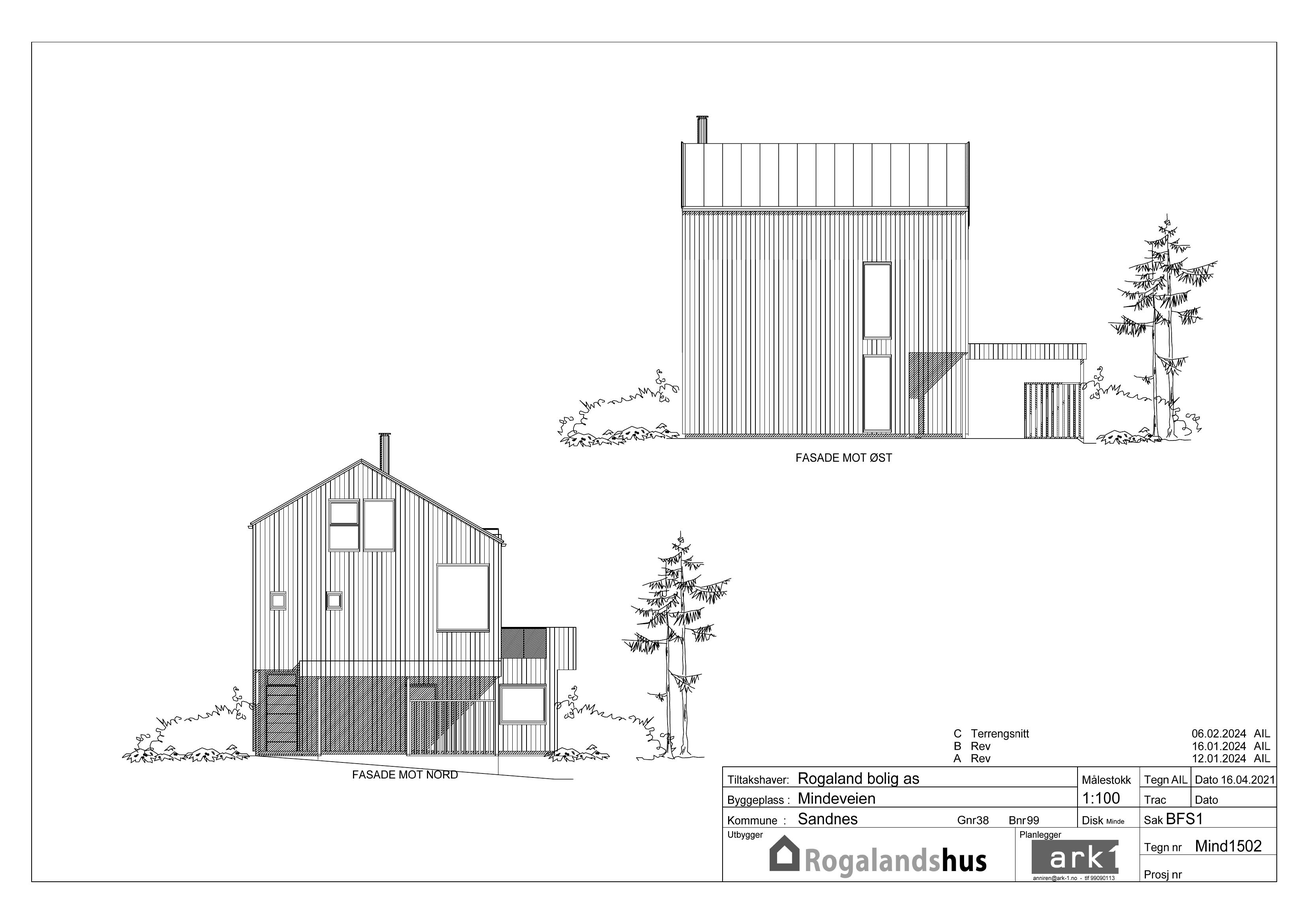fasade: (678, 115, 1091, 446), (244, 430, 582, 783)
